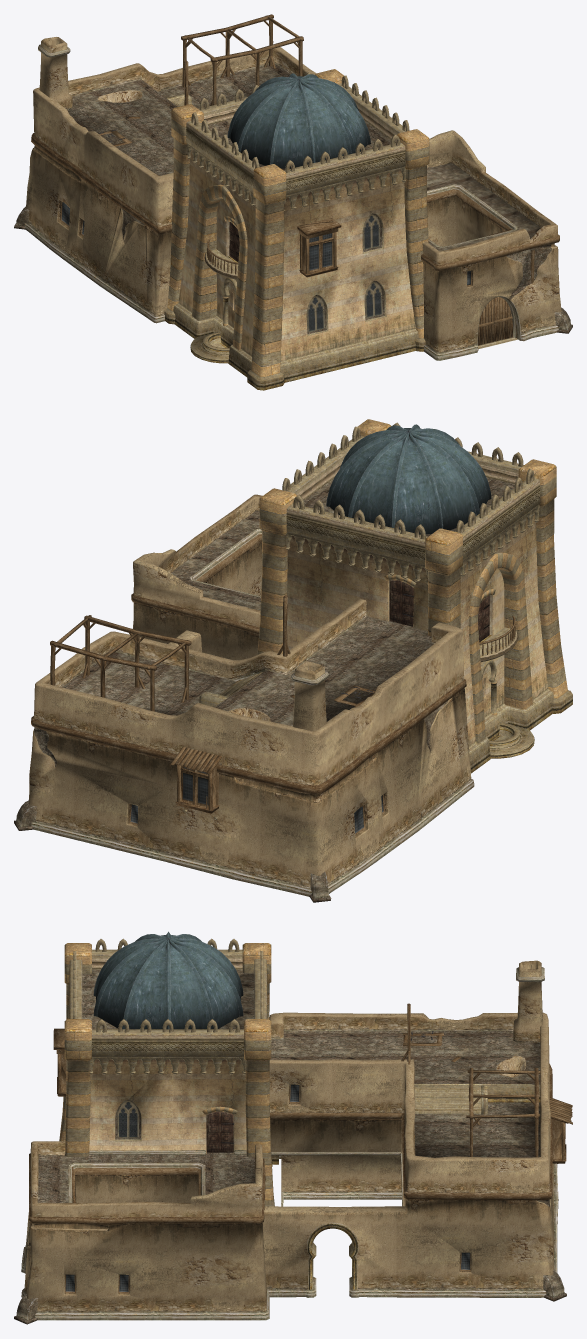
File: oriental_houses_01_LOD2.obj
The picture shows the model from 3 angles, top to bottom: view 1: azimuth 30°, elevation 25°; view 2: azimuth 150°, elevation 25°; view 3: azimuth 270°, elevation 25°; orthographic projection. The views are drawn at different scales.
Parts seen in each view (by area): view 1: oriental_houses_01_LOD2.obj; view 2: oriental_houses_01_LOD2.obj; view 3: oriental_houses_01_LOD2.obj.
Part boxes in pixels (x1=…): oriental_houses_01_LOD2.obj: x1=14, y1=14, x2=572, y2=390; oriental_houses_01_LOD2.obj: x1=14, y1=419, x2=572, y2=902; oriental_houses_01_LOD2.obj: x1=14, y1=931, x2=572, y2=1324.
Size of the model in its own units: 667 by 508 by 930.
10 materials, 10 textured.
